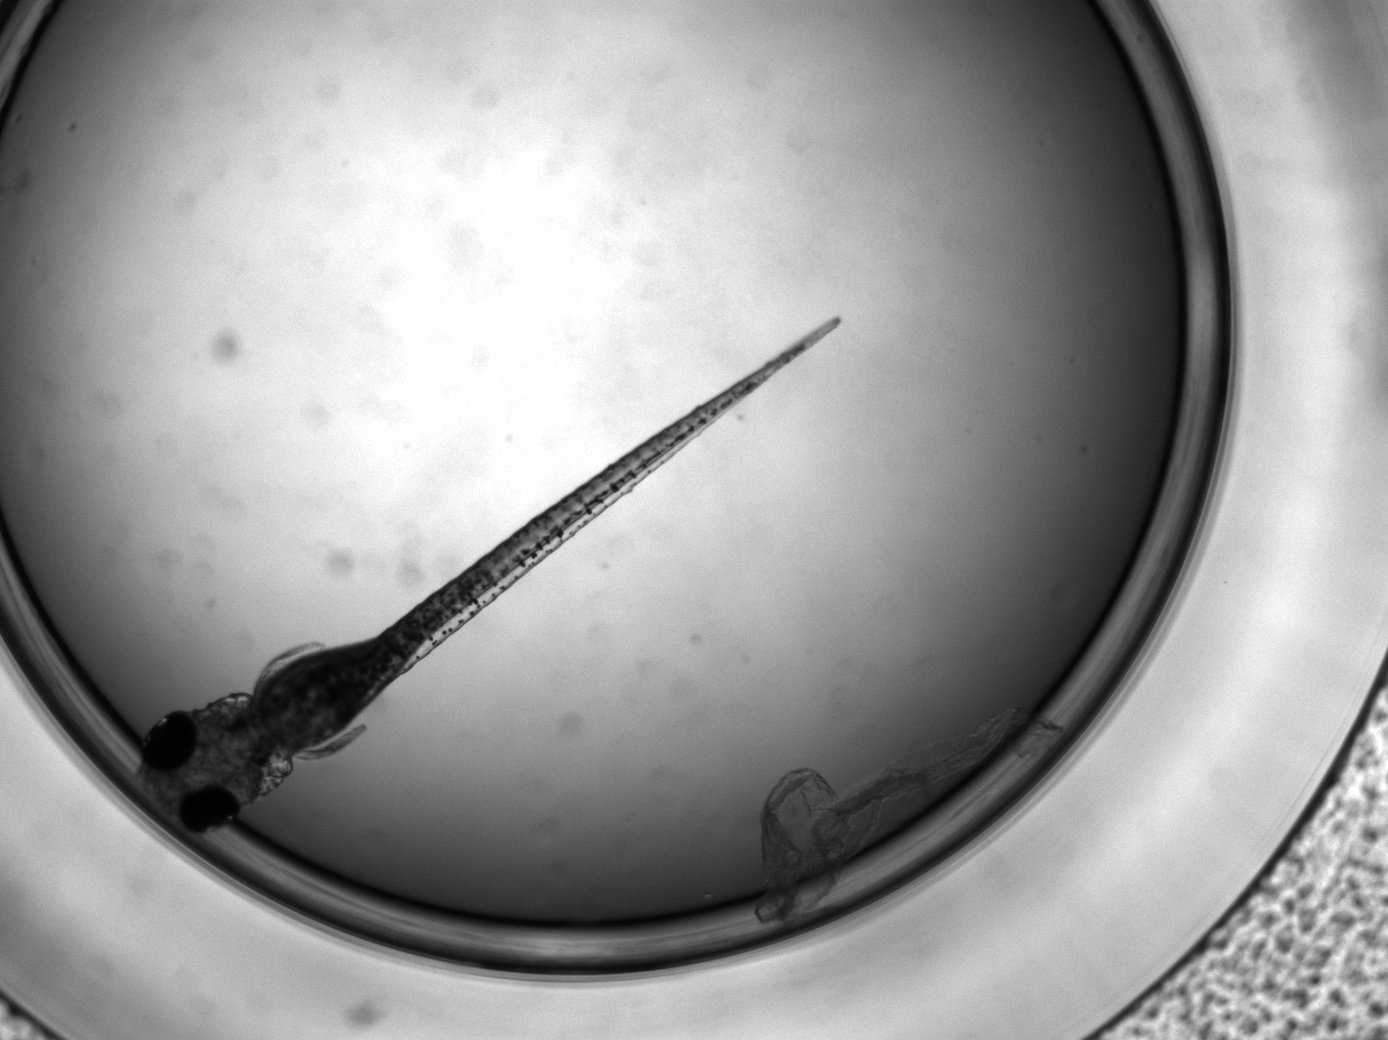debris: (755, 698, 1069, 927)
embryo: (135, 315, 842, 840)
eye: (139, 711, 200, 770), (178, 785, 241, 835)
yolksac: (257, 640, 389, 752)
